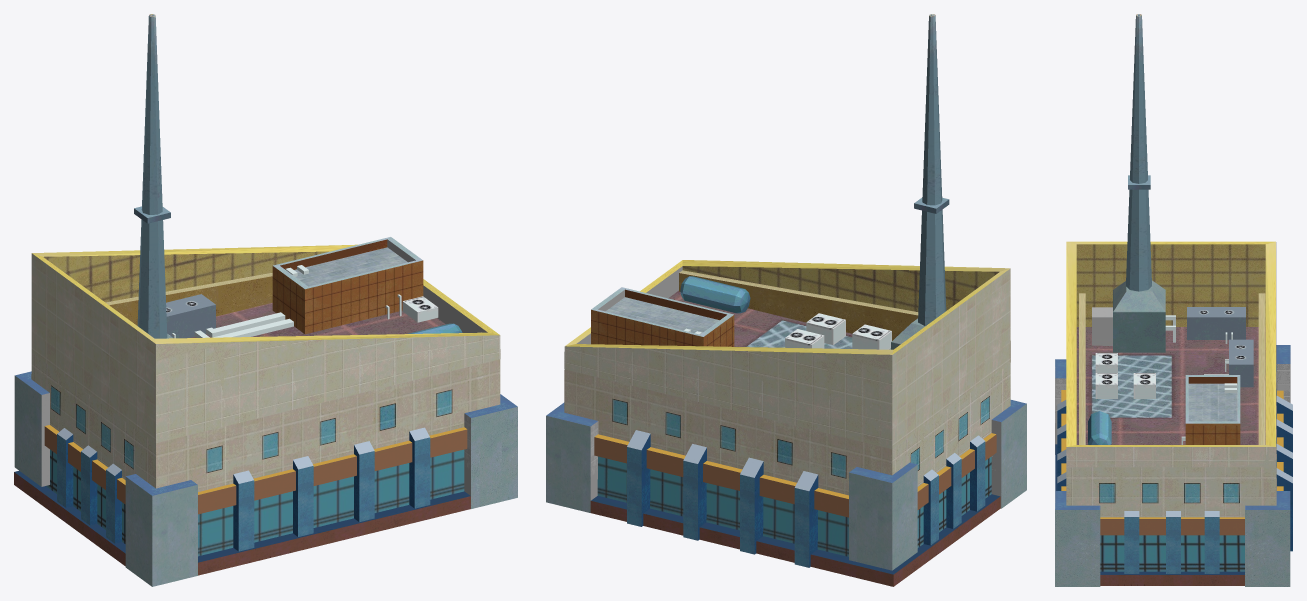
Rendered from L厂房2.obj.
3 views of the same model, side by side, from view 1: azimuth 30°, elevation 25°; view 2: azimuth 150°, elevation 25°; view 3: azimuth 270°, elevation 25° (orthographic). The views are drawn at different scales.
Visible parts, largest first — view 1: xieziding03; view 2: xieziding03; view 3: xieziding03.
Boxes of the visible parts, box(x1,y1,x2,y2) form: xieziding03: box(14, 14, 517, 586); xieziding03: box(546, 14, 1026, 586); xieziding03: box(1055, 14, 1292, 586).
Size of the model in its own units: 4.38 by 5.99 by 2.92.
